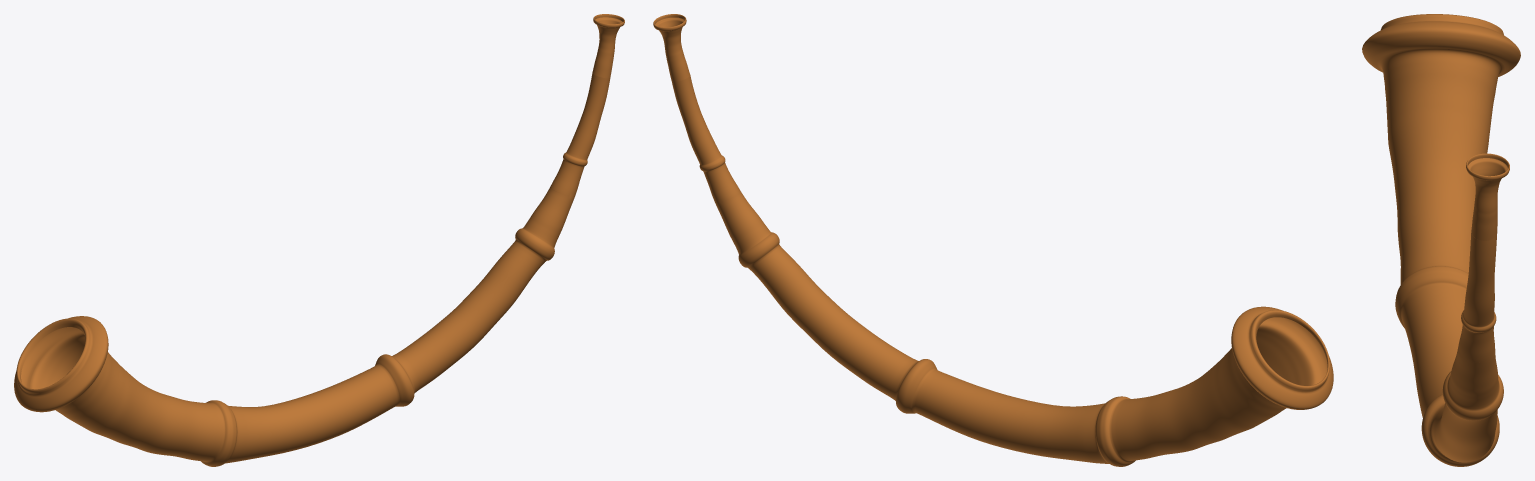
The model's file is Sringa.fbx.
3 renders of one model, left to right at view 1: azimuth 30°, elevation 25°; view 2: azimuth 150°, elevation 25°; view 3: azimuth 270°, elevation 25°, orthographic. The views are drawn at different scales.
Visible parts, largest first — view 1: Circle; view 2: Circle; view 3: Circle.
Boxes of the visible parts, x1,y1,x2,y2 form: Circle: (14,14,624,466); Circle: (653,14,1333,466); Circle: (1362,14,1520,466).
Size of the model in its own units: 482 by 254 by 77.42.
